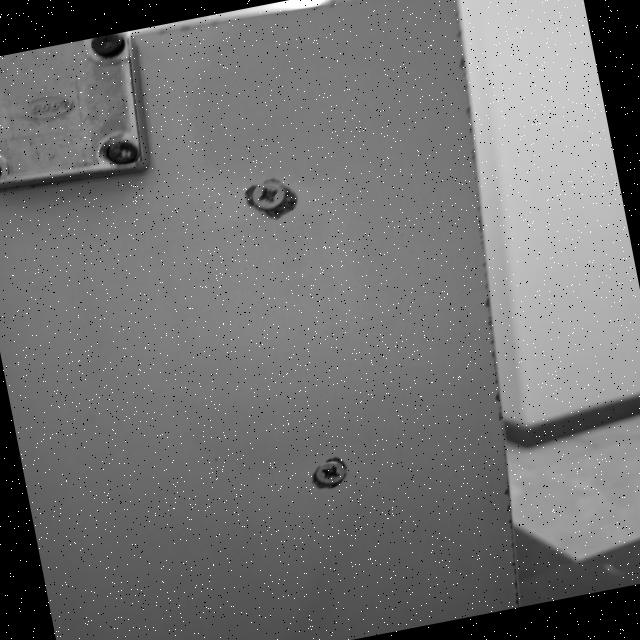Pozidriv: (247, 176, 293, 218), (316, 458, 348, 488)
